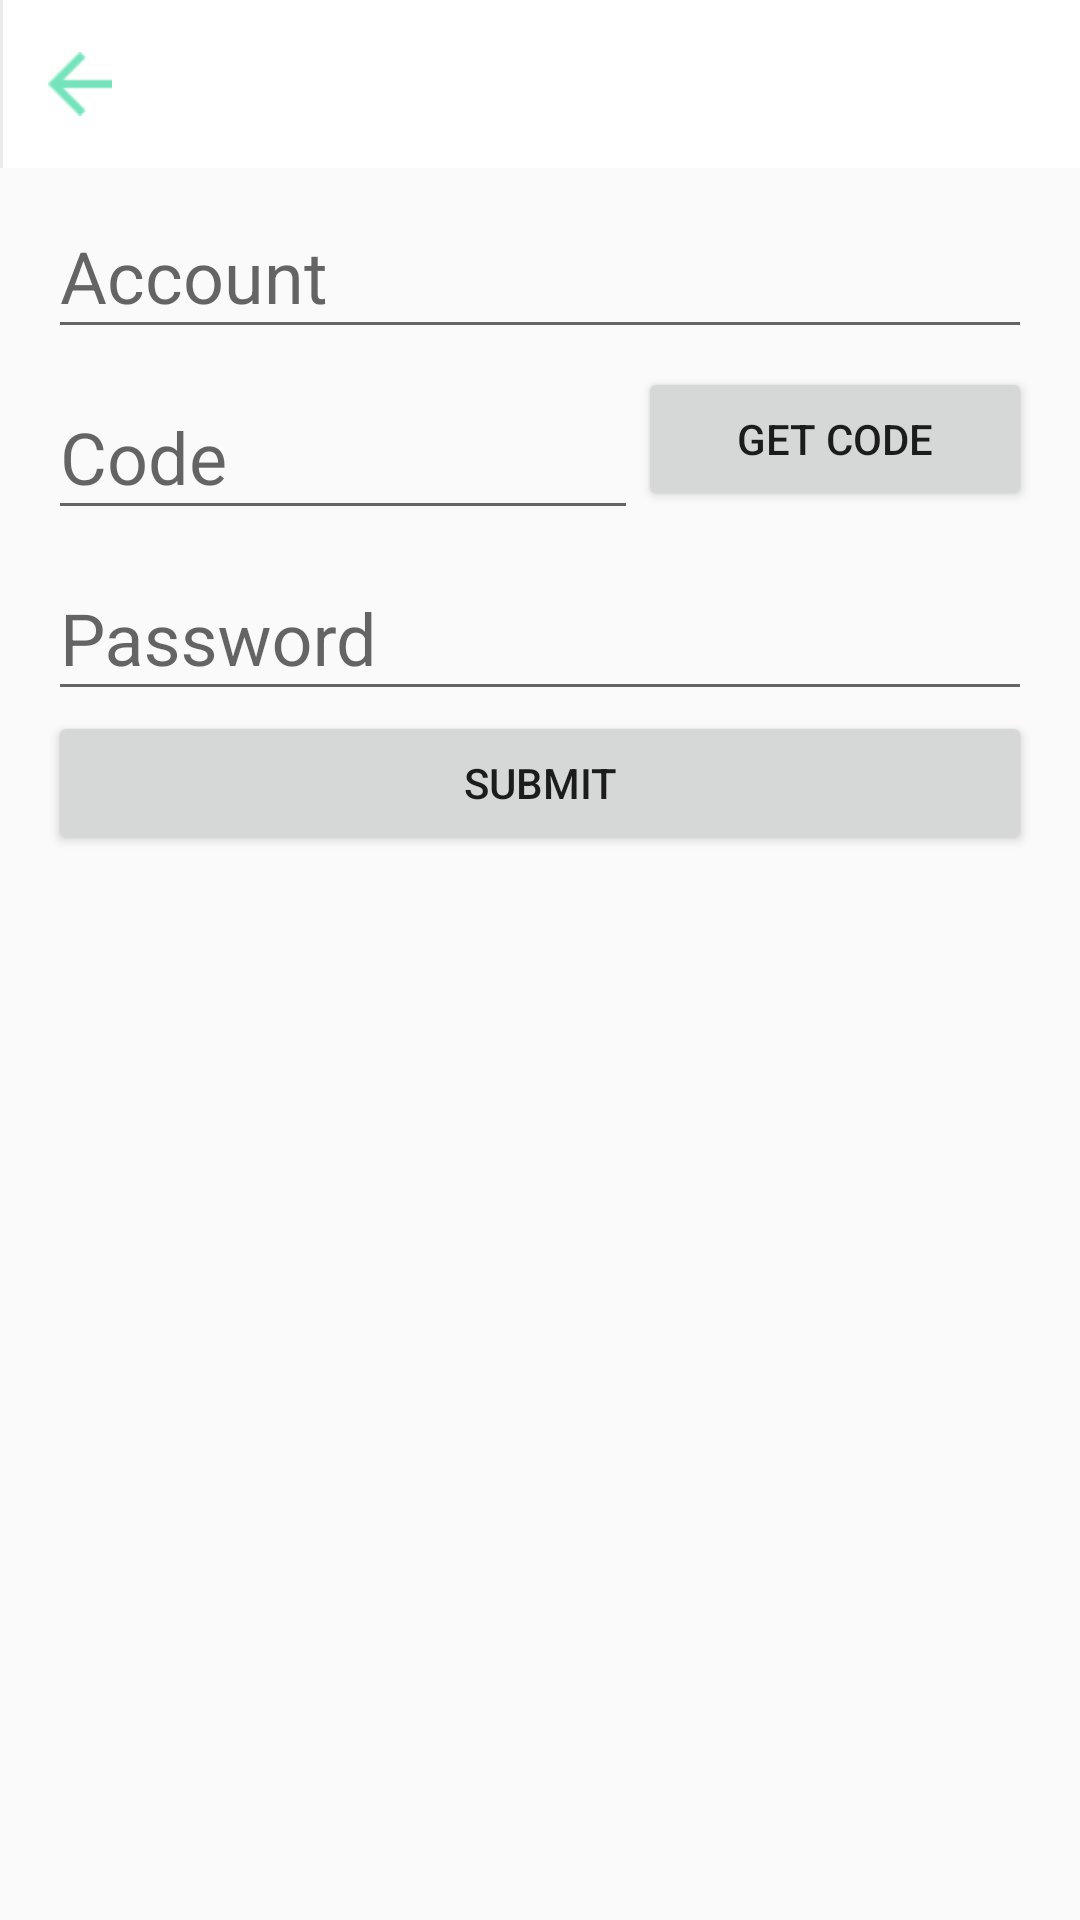

Locate icon controls on the screen. Image size 1080*1920, boxes as (x1, y1, x2, y2).
back: (48, 52, 112, 116)
